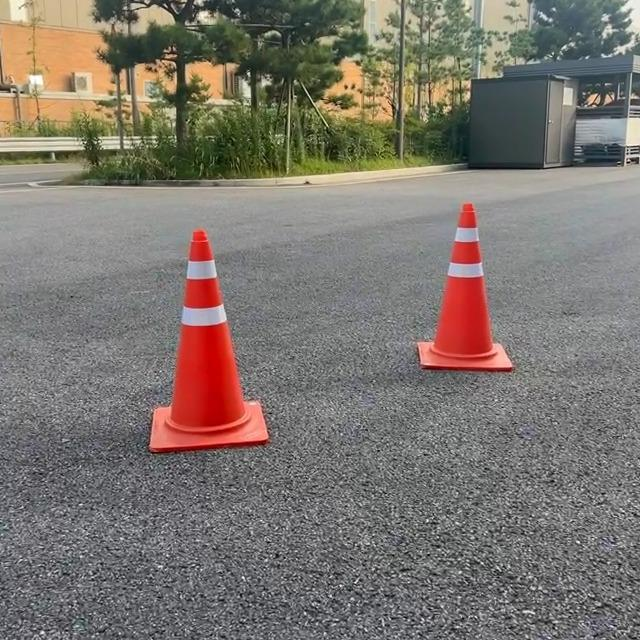fallen_object: (112, 216, 302, 445), (359, 193, 521, 379)
